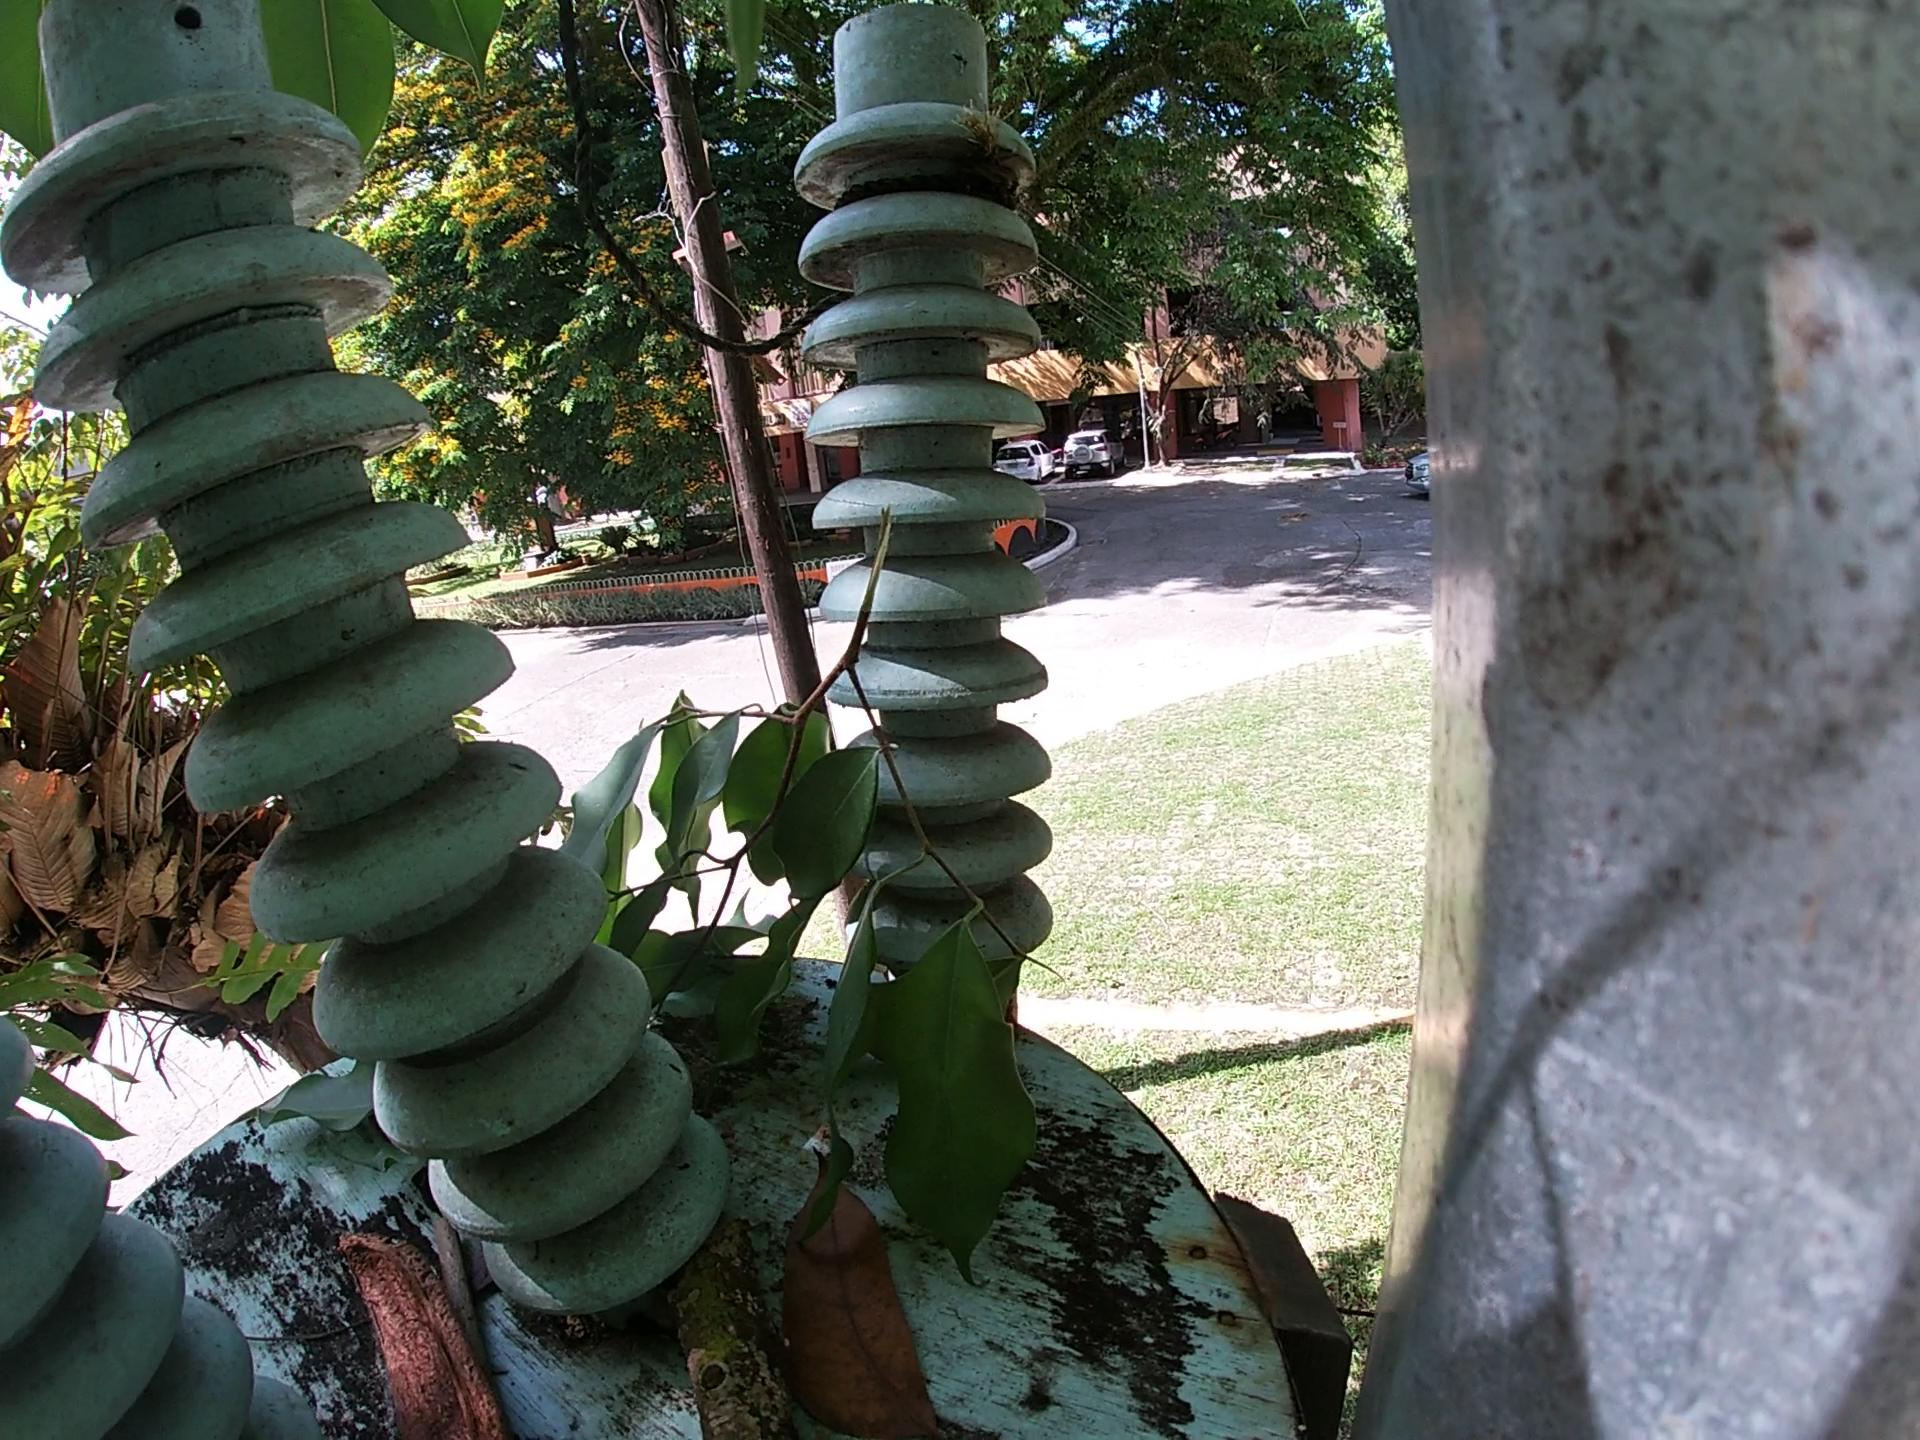branch with leaves: (561, 472, 1030, 1302)
leaf: (773, 1116, 966, 1423), (246, 1045, 382, 1151)
mahogany fruit: (321, 1227, 485, 1440)
tree branch: (658, 1271, 766, 1440), (422, 1219, 475, 1314)
